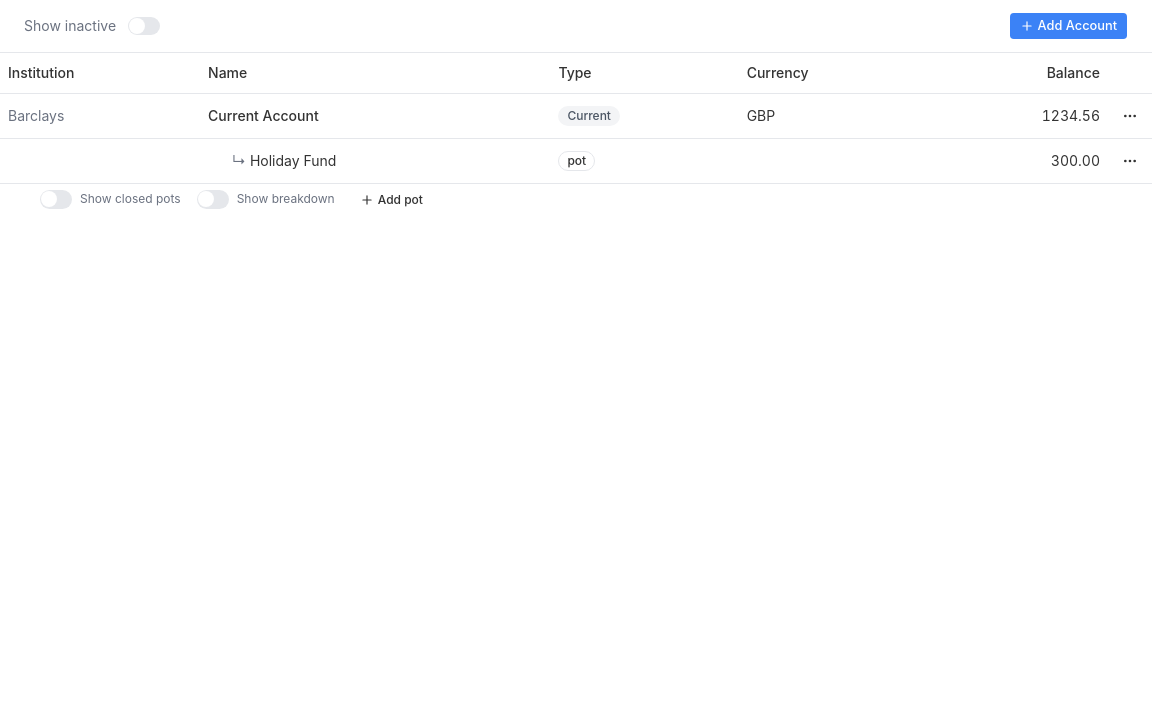
Test: AccountsScreen › opens the delete confirmation dialog when Delete is chosen from the row menu
Expected: the text "Current Account" is shown, [200,93,550,138]
Press the mouse on the button named "account actions" at (1130, 116), box [1116,102,1144,130]
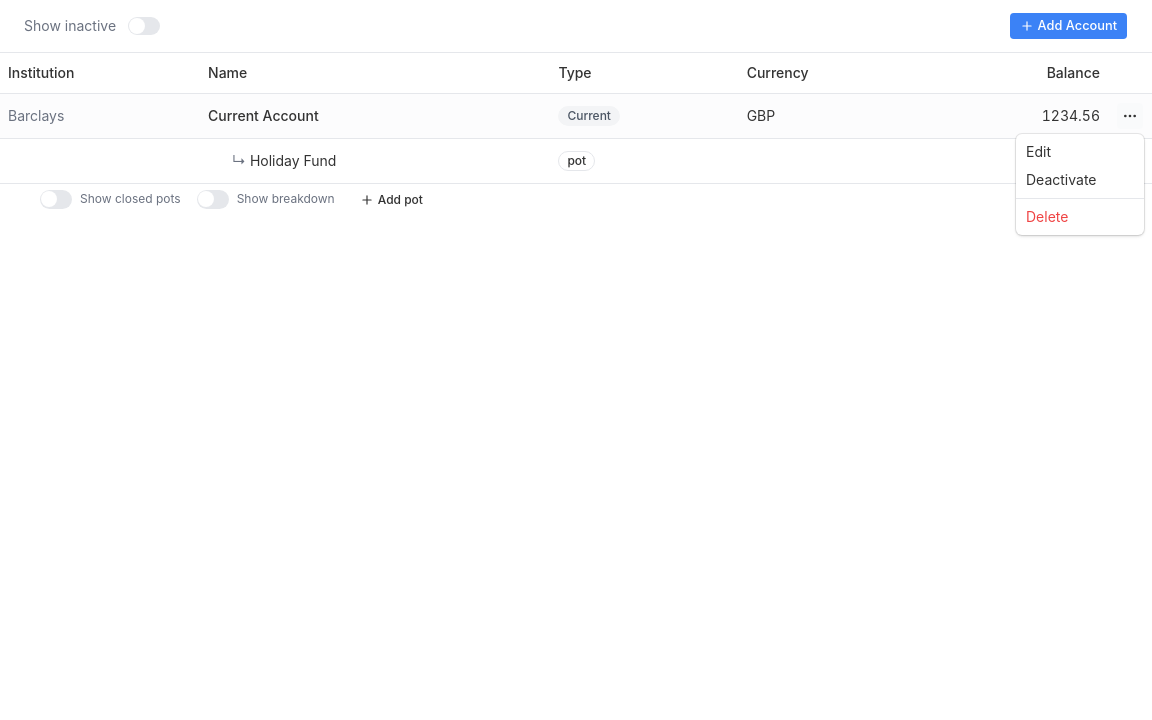
Expected: the menu item "Delete" is shown
Click the menu item "Delete".
click(1047, 216)  # box [1026,208,1068,225]
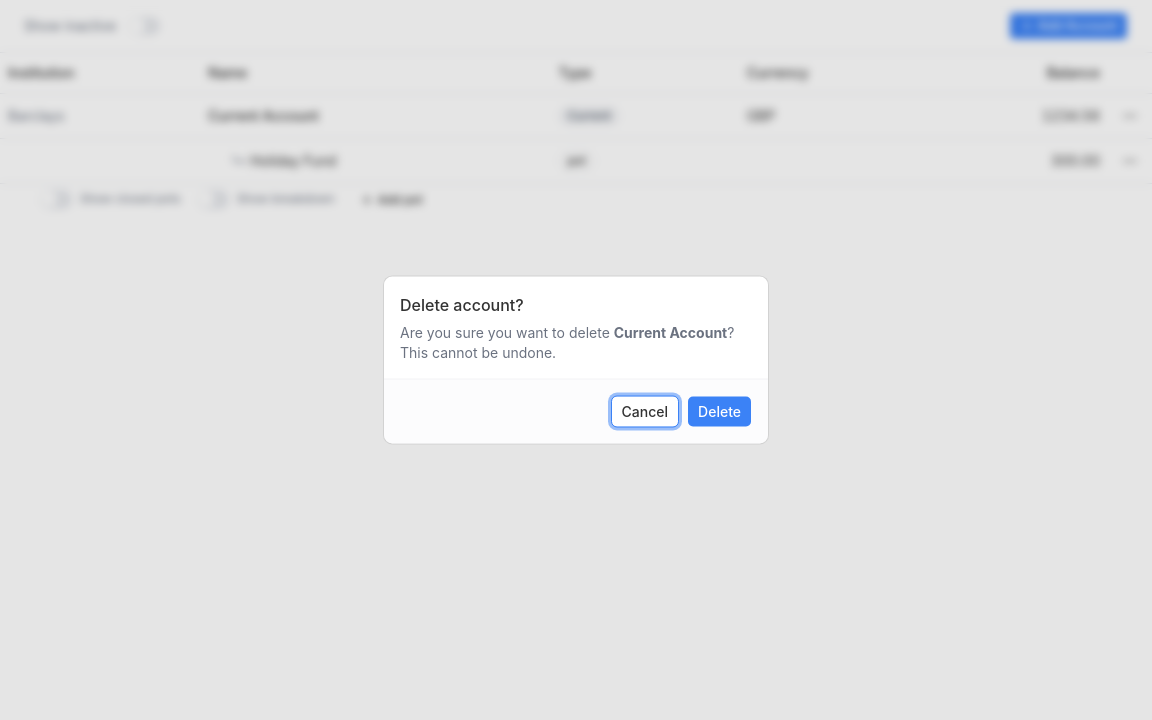
Expected: the heading "Delete account?" is shown, [400,292,524,316]
Expected: the text "Current Account" is shown, [614,324,727,340]
